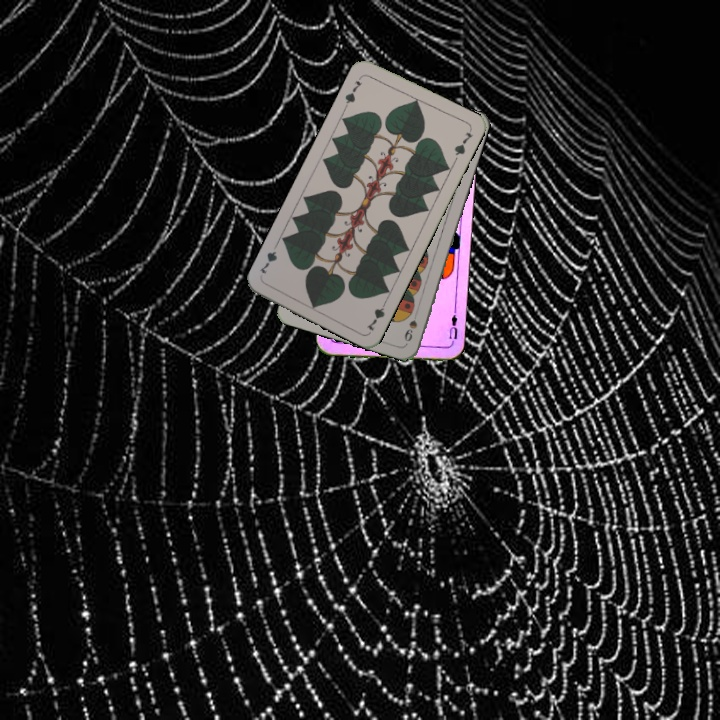EU: (445, 307, 460, 348)
G7: (362, 296, 390, 333), (341, 77, 365, 110)
S9: (400, 305, 421, 344)
